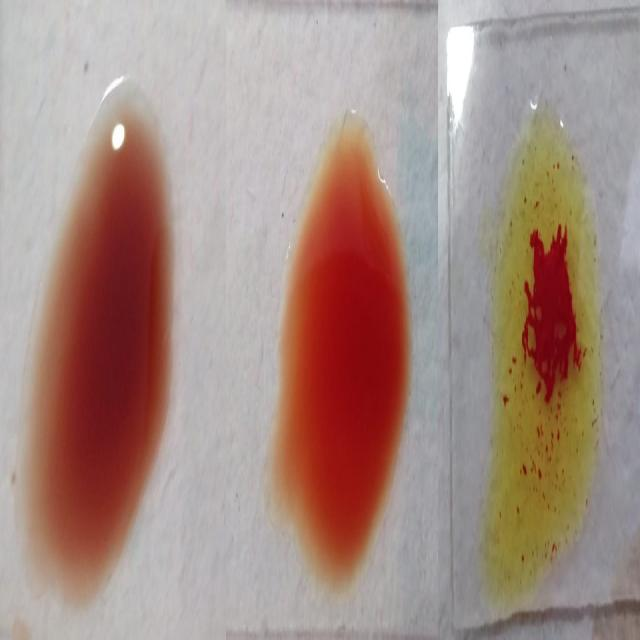B: (490, 130, 598, 574)
